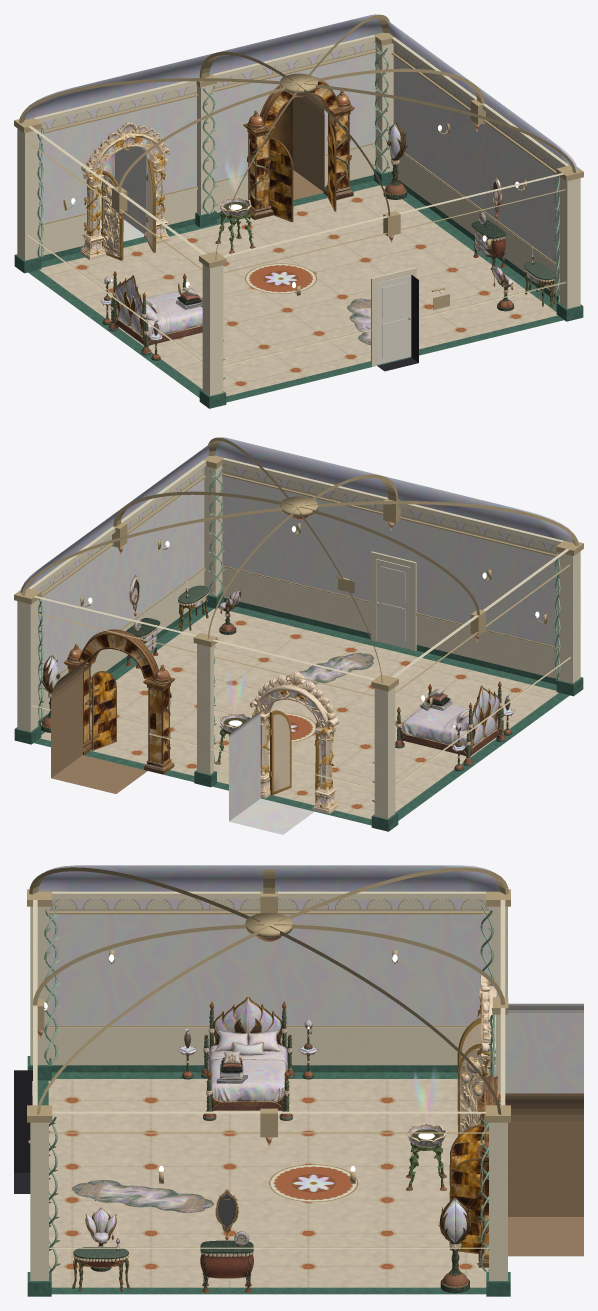
Rendered from rdwe_god_oneiros.glb.
3 views of the same model, one above another, from view 1: azimuth 30°, elevation 25°; view 2: azimuth 150°, elevation 25°; view 3: azimuth 270°, elevation 25° (orthographic). The views are drawn at different scales.
Parts seen in each view (by area): view 1: Floor_Stone, Wall_Pearl, Ivory, Bronze, Verdigris_Marble, Vault_Opal, Oneiros_P1_gate_horn, Scallop_Frieze, Oneiros_P2_gate_ivory, Oneiros_ON-05_bed, Passage_Horn, DoorLeaf_Oneiros_In (+15 smaller); view 2: Wall_Pearl, Floor_Stone, Ivory, Bronze, Verdigris_Marble, Vault_Opal, Oneiros_P1_gate_horn, Passage_Horn, Oneiros_ON-05_bed, Oneiros_P2_gate_ivory, Passage_Ivory, Scallop_Frieze (+10 smaller); view 3: Floor_Stone, Wall_Pearl, Ivory, Bronze, Passage_Horn, Vault_Opal, Verdigris_Marble, Oneiros_ON-05_bed, Passage_Ivory, Scallop_Frieze, Medallion, Oneiros_ON-11_runner (+15 smaller).
Part boxes in pixels (x1,y1,x2,y2): Floor_Stone: [39, 185, 557, 396]; Wall_Pearl: [38, 53, 559, 265]; Ivory: [17, 35, 580, 395]; Bronze: [14, 14, 583, 365]; Verdigris_Marble: [14, 168, 583, 408]; Vault_Opal: [24, 14, 577, 170]; Oneiros_P1_gate_horn: [243, 77, 354, 219]; Scallop_Frieze: [38, 41, 561, 171]; Oneiros_P2_gate_ivory: [80, 122, 170, 260]; Oneiros_ON-05_bed: [108, 271, 202, 355]; Passage_Horn: [293, 95, 324, 200]; DoorLeaf_Oneiros_In: [377, 275, 410, 364]; Wall_Pearl: [38, 475, 559, 687]; Floor_Stone: [40, 608, 558, 819]; Ivory: [17, 458, 580, 818]; Bronze: [14, 437, 583, 788]; Verdigris_Marble: [14, 591, 583, 831]; Vault_Opal: [20, 437, 573, 593]; Oneiros_P1_gate_horn: [64, 629, 174, 774]; Passage_Horn: [51, 656, 147, 793]; Oneiros_ON-05_bed: [395, 681, 506, 765]; Oneiros_P2_gate_ivory: [250, 671, 338, 813]; Passage_Ivory: [229, 709, 314, 834]; Scallop_Frieze: [36, 464, 559, 593]; Floor_Stone: [48, 1079, 488, 1287]; Wall_Pearl: [49, 914, 488, 1025]; Ivory: [30, 891, 507, 1280]; Bronze: [27, 867, 510, 1247]; Passage_Horn: [505, 1093, 583, 1256]; Vault_Opal: [38, 865, 499, 891]; Verdigris_Marble: [27, 1056, 510, 1296]; Oneiros_ON-05_bed: [201, 996, 295, 1120]; Passage_Ivory: [505, 1003, 583, 1093]; Scallop_Frieze: [49, 899, 488, 911]; Medallion: [269, 1164, 358, 1201]; Oneiros_ON-11_runner: [72, 1180, 213, 1213].
Bounding box in the file's own units: 10.22 × 5.5 × 10.86.
Materials: 44 (31 with a texture image).
